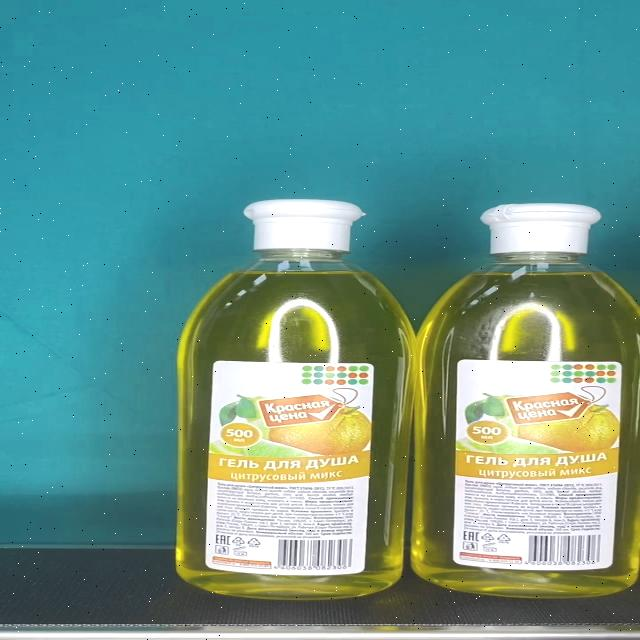Bottle: (176, 199, 416, 599), (410, 202, 640, 600)
Cap: (479, 203, 602, 254), (244, 200, 364, 250)
